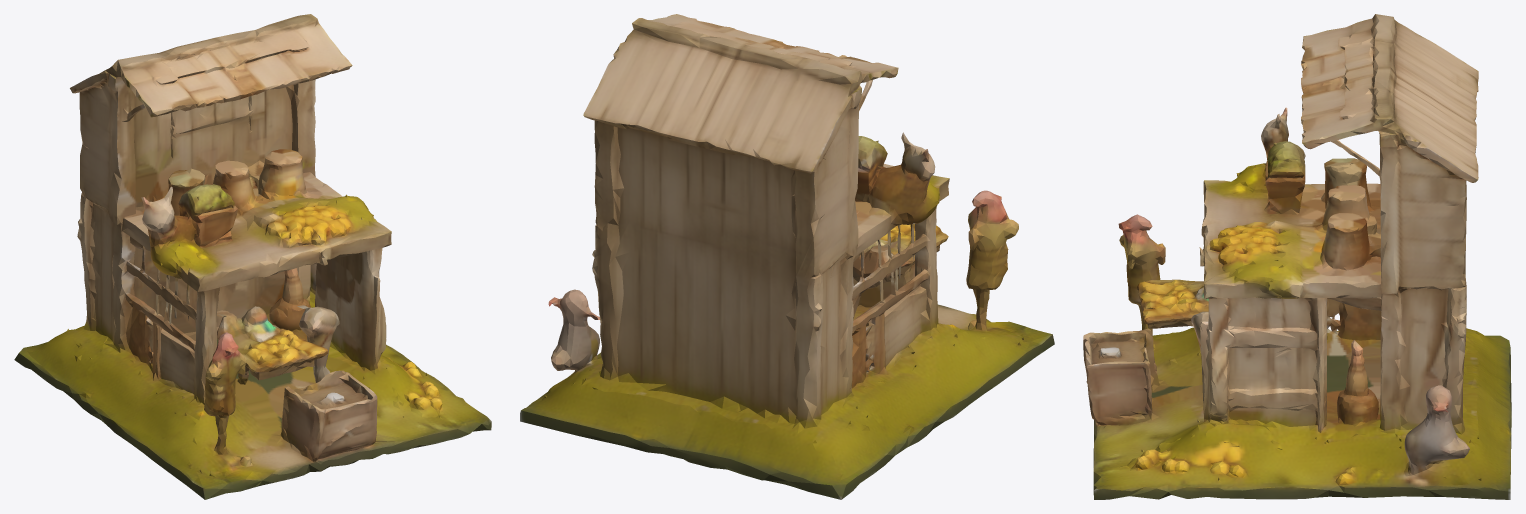
3 views of the same model, side by side, from view 1: azimuth 30°, elevation 25°; view 2: azimuth 150°, elevation 25°; view 3: azimuth 270°, elevation 25° (orthographic). The views are drawn at different scales.
Parts seen in each view (by area): view 1: EmergencyRations; view 2: EmergencyRations; view 3: EmergencyRations.
Part boxes in pixels (x1,y1,x2,y2): EmergencyRations: [14, 14, 491, 499]; EmergencyRations: [520, 14, 1054, 499]; EmergencyRations: [1083, 14, 1511, 499].
Size of the model in its own units: 1.61 by 1.73 by 1.88.
Materials: 1 (1 with a texture image).
